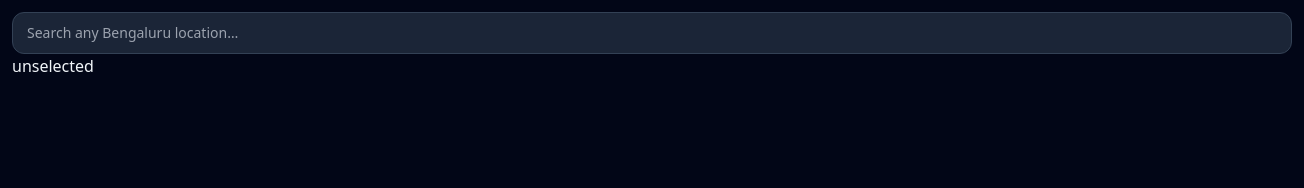
Test: LocationSearch › aborts stale requests and ignores late responses
Step 1. Type "Old" into the dropdown → (652, 33), box [12,12,1292,54]
Wait 300 ms
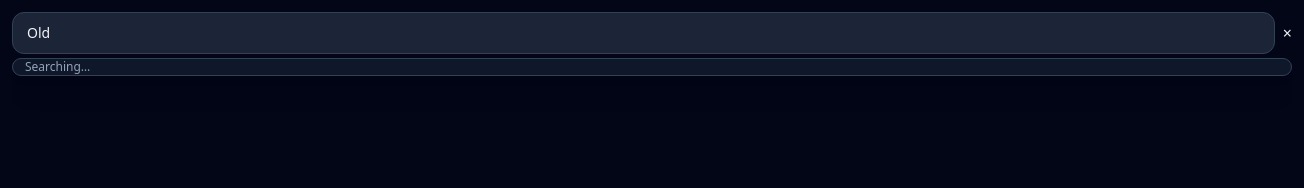
Step 2. Replace the text in the dropdown with "Kodihalli" → (643, 33), box [12,12,1275,54]
Wait 300 ms
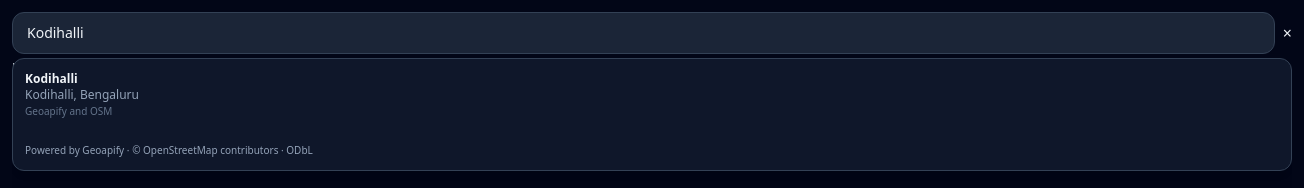
Expected: the text "Kodihalli" is shown, [25,70,78,87]
